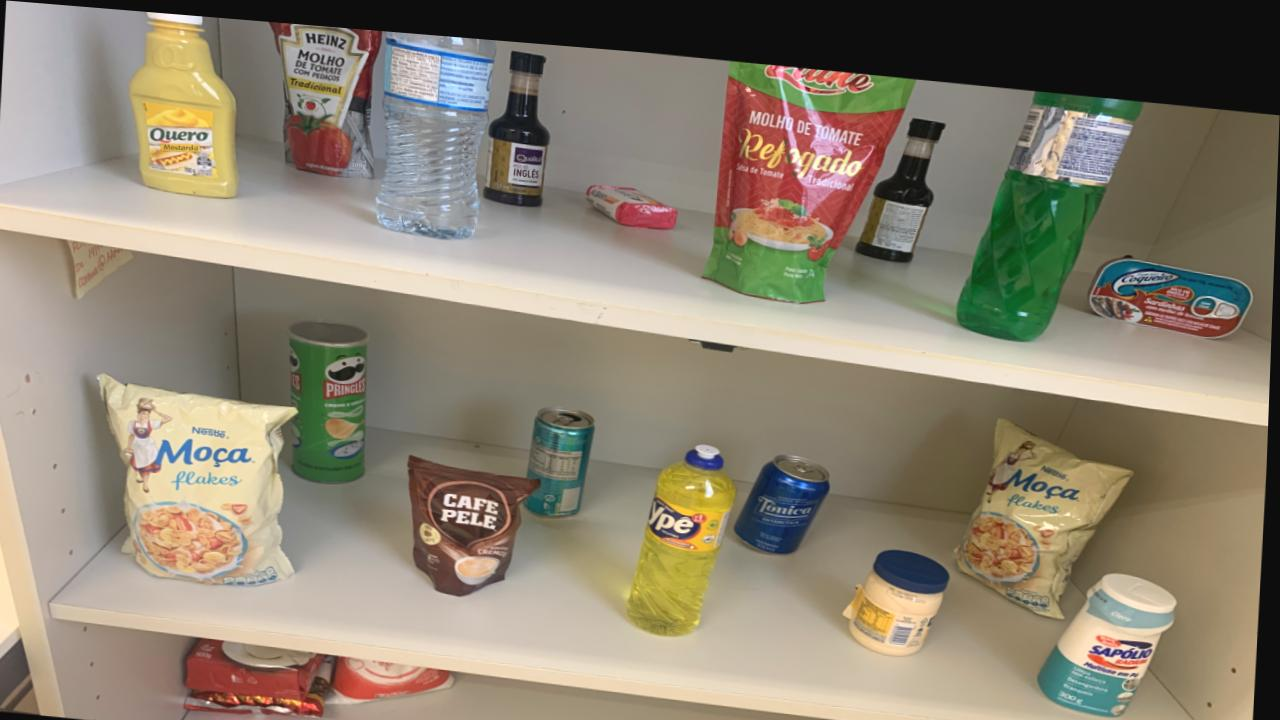Cleaner-Cleanup_Items: (1043, 555, 1178, 697)
Coffee-Pantry_Items: (411, 449, 543, 588)
Detergent-Cleanup_Items: (958, 73, 1143, 323), (630, 432, 739, 625)
English_Sauce-Pantry_Items: (858, 103, 944, 247), (484, 42, 550, 198)
Flakes-Snacks: (101, 373, 298, 580), (957, 401, 1136, 600)
Mayonnaise-Pantry_Items: (848, 534, 953, 640)
Mustard-Pantry_Items: (130, 9, 239, 194)
Pringles-Snacks: (291, 314, 370, 478)
Soap-Cleanup_Items: (587, 174, 679, 218)
Tea-Drinks: (527, 397, 599, 508)
Tomato_Sauce-Pantry_Items: (704, 49, 914, 290), (269, 17, 381, 172)
Tonic-Drinks: (737, 440, 833, 540)
Tuna_Can-Pantry_Items: (1089, 238, 1255, 318)
Water_Bottle-Drinks: (378, 25, 496, 231)
